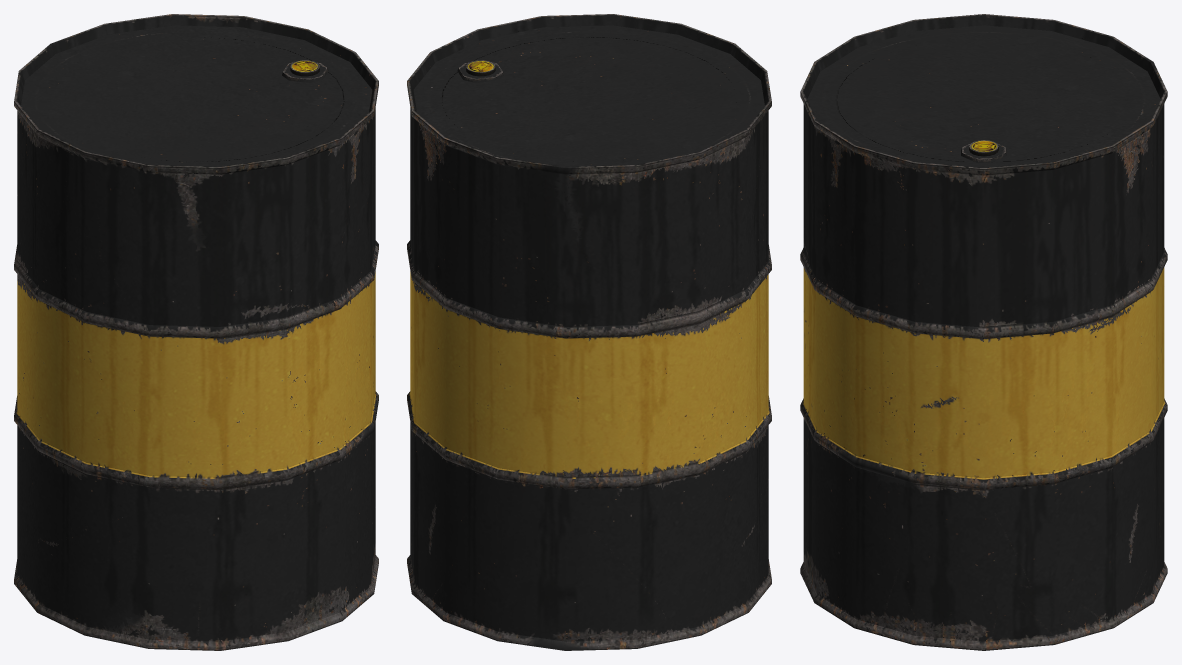
The model's file is barrel.FBX.
3 views of the same model, side by side, from view 1: azimuth 30°, elevation 25°; view 2: azimuth 150°, elevation 25°; view 3: azimuth 270°, elevation 25° (orthographic).
Parts seen in each view (by area): view 1: barrel; view 2: barrel; view 3: barrel.
Part boxes in pixels (box(x1,y1,x2,y2)): barrel: box(14, 14, 378, 650); barrel: box(407, 14, 771, 650); barrel: box(800, 14, 1167, 650).
Size of the model in its own units: 0.58 by 0.84 by 0.58.
1 material, 1 textured.
